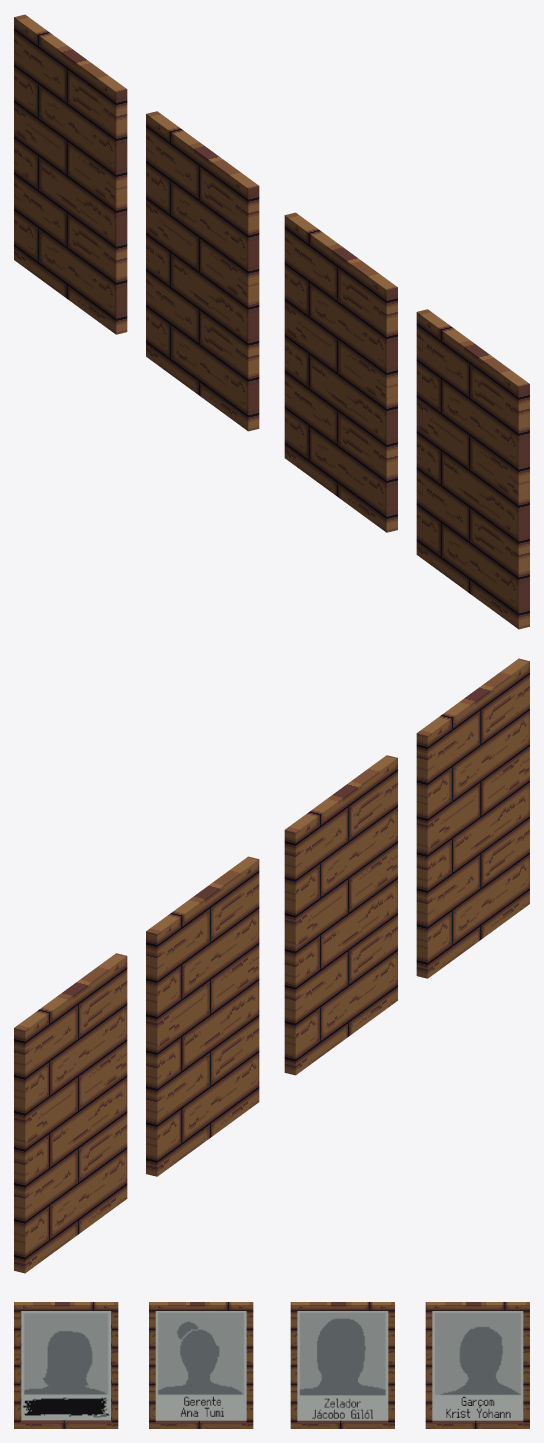
File: funcionarios.fbx
3 views of the same model, one above another, from view 1: azimuth 30°, elevation 25°; view 2: azimuth 150°, elevation 25°; view 3: azimuth 270°, elevation 25° (orthographic). The views are drawn at different scales.
Visible parts, largest first — view 1: Cube.001; view 2: Cube.001; view 3: Cube.001, 2, 3, 4, 1.
Boxes of the visible parts, x1,y1,x2,y2 form: Cube.001: [14, 14, 529, 629]; Cube.001: [14, 658, 529, 1273]; Cube.001: [14, 1302, 529, 1428]; 2: [155, 1311, 246, 1420]; 3: [297, 1311, 388, 1420]; 4: [432, 1311, 523, 1420]; 1: [21, 1311, 110, 1420].
Bounding box in the file's own units: 29.68 × 615 × 2318.
5 materials, 5 textured.
